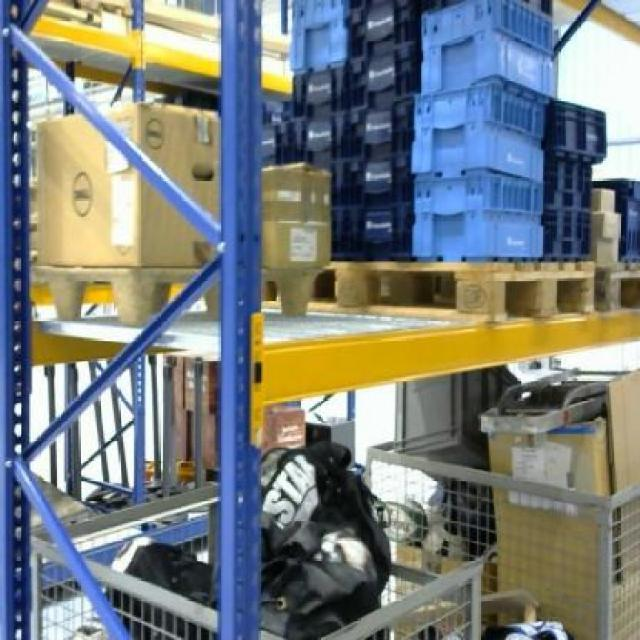box: (34, 102, 222, 262), (486, 433, 616, 632), (259, 164, 333, 268)
